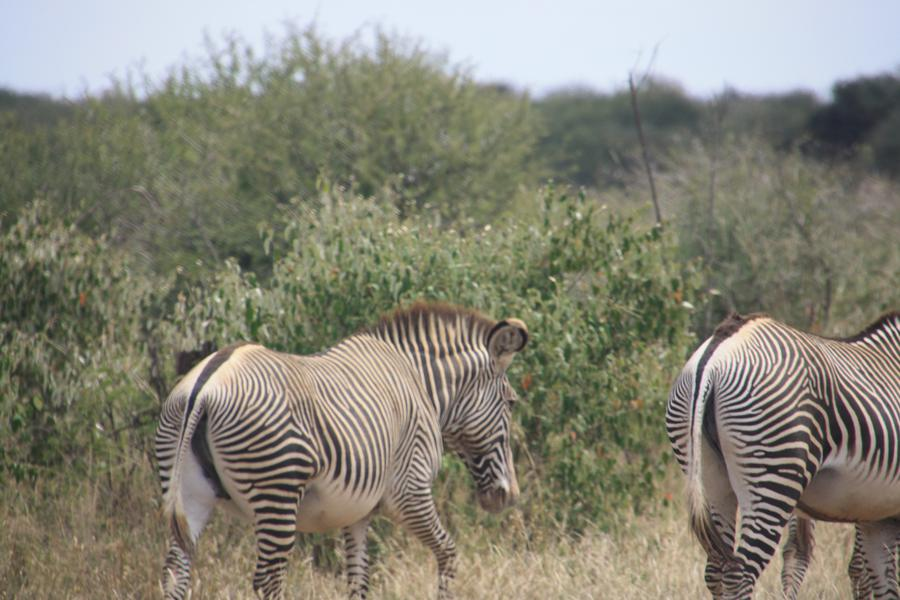zebra_grevys: (172, 333, 440, 485)
